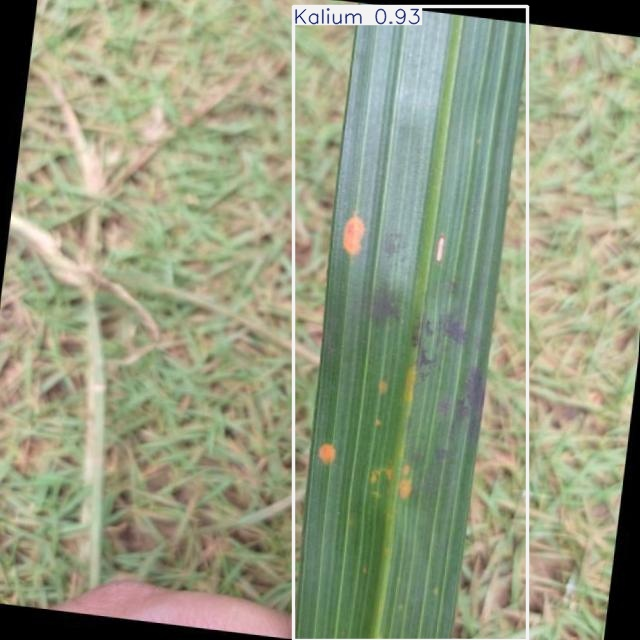Kalium: (293, 7, 528, 640)
